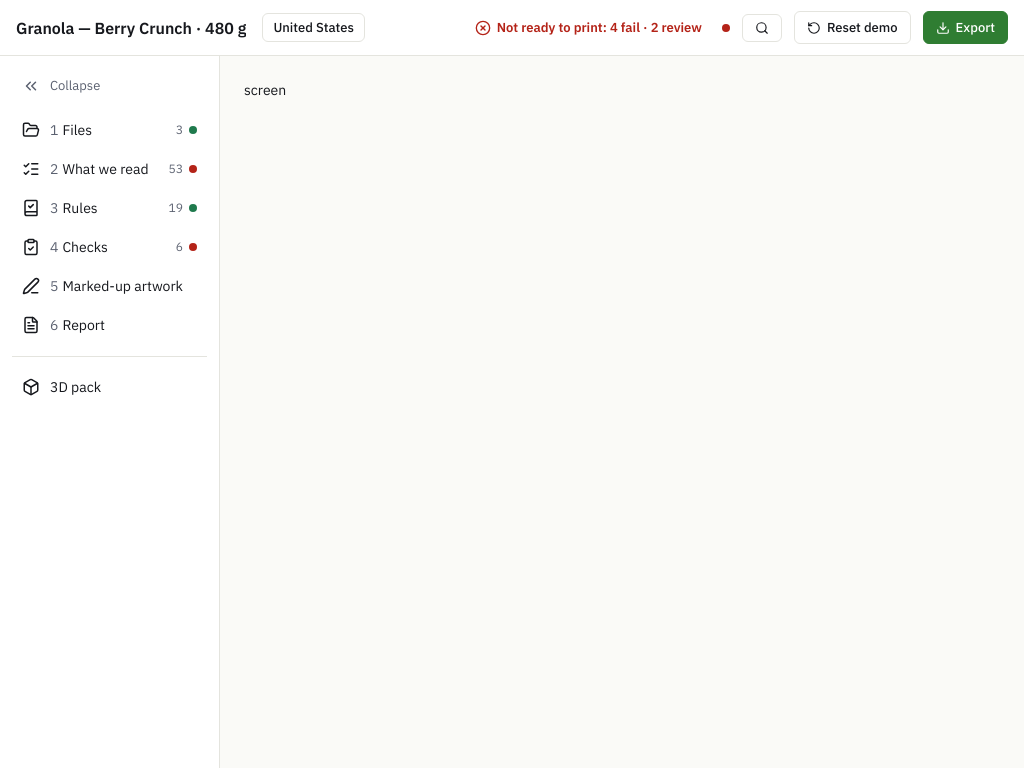
Ask when the AI is busy › keeps the typed question and Retry sends the same body again
Expected: the text "screen" is shown, [244,81,286,99]
Click the button named "Ask about this": (762, 28) [742,14,782,42]
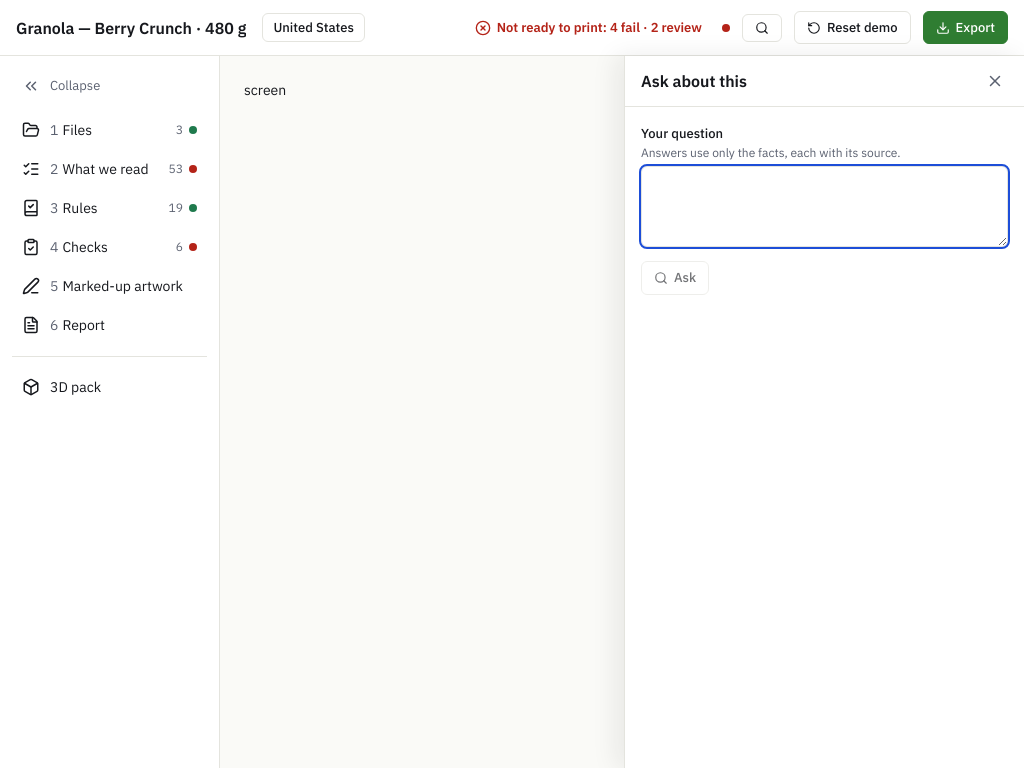
In the text box labelled "Your question": (824, 206) [641,166,1008,247], type "How much is in the box?"
Then press Enter
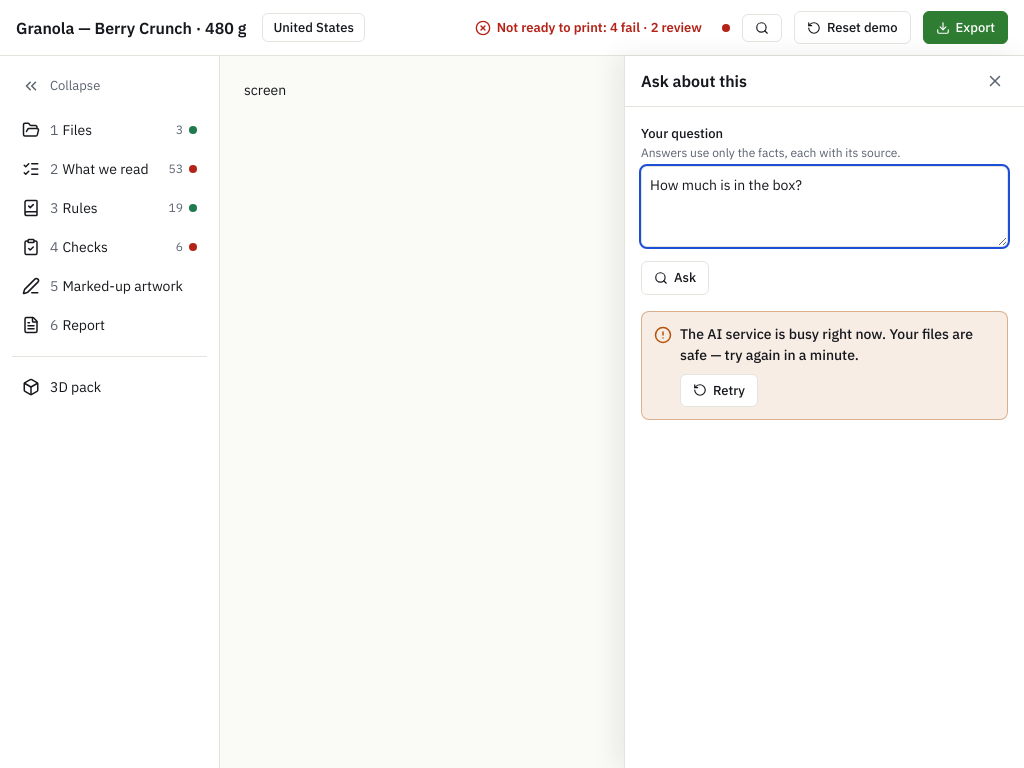
Expected: the 2nd message shows "The AI service is busy right now. Your files are safe", [680,324,973,364]
Click the button "Retry": (719, 390) [680,374,758,407]
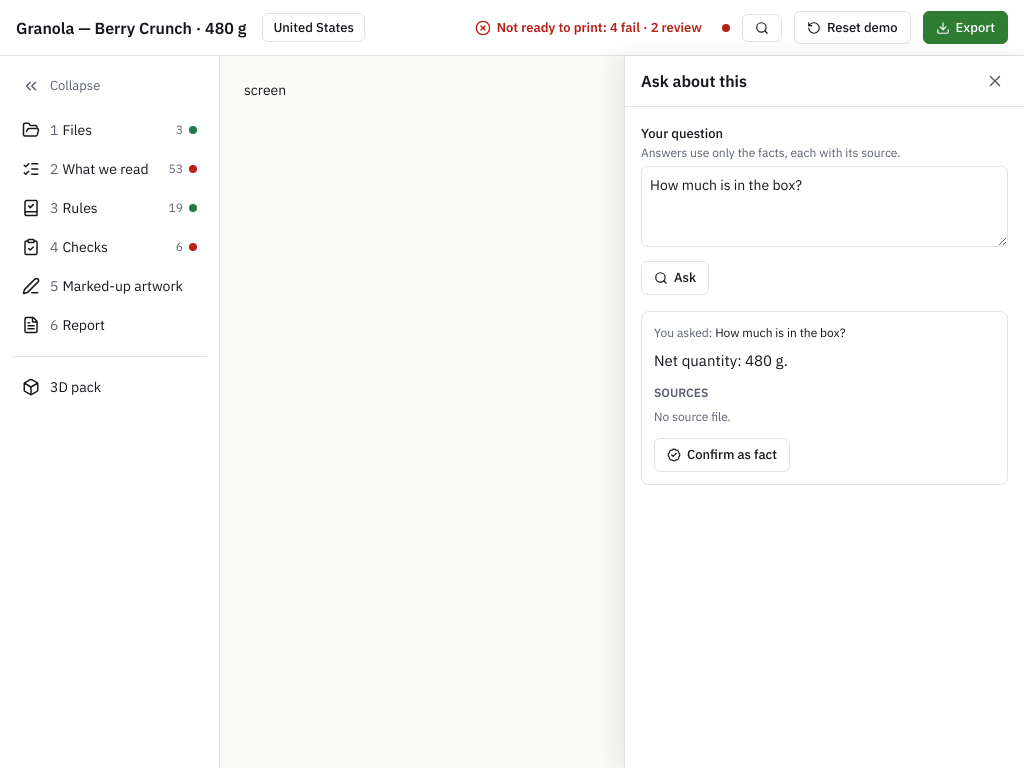
Expected: the element named "Answer" shows "480 g", [654,350,788,370]
